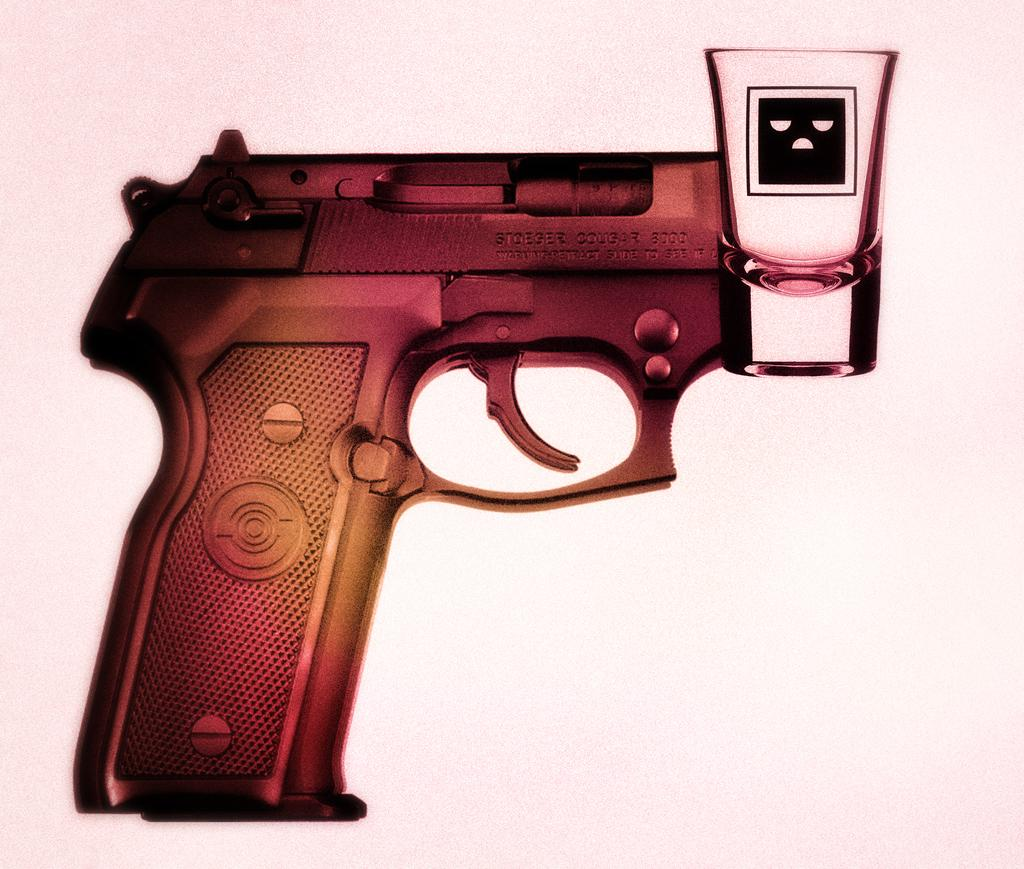Handgun: (76, 126, 724, 825)
